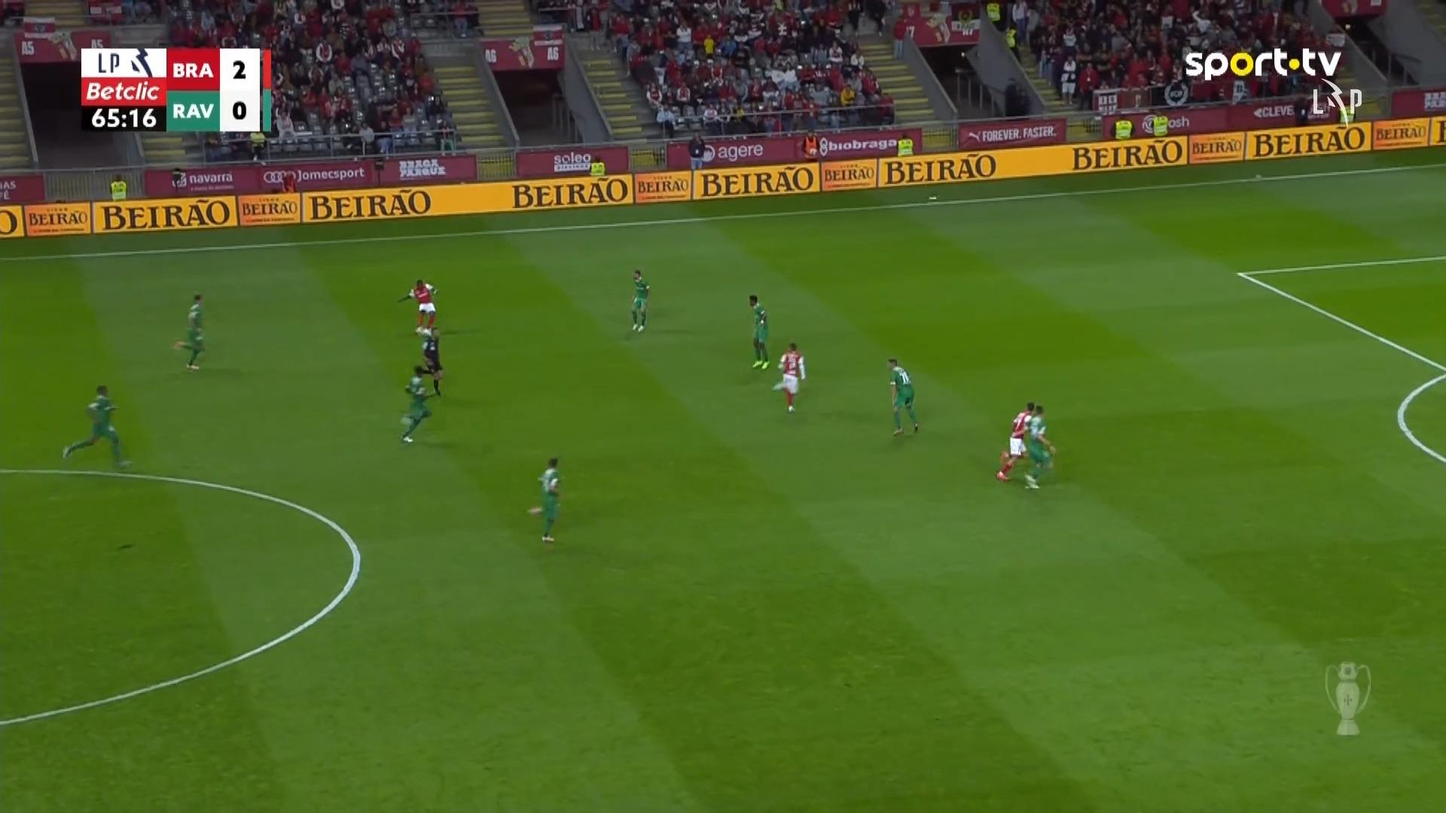ball: (429, 327, 440, 339)
player: (61, 384, 133, 470), (996, 400, 1035, 480), (527, 456, 562, 542), (1023, 403, 1056, 489), (886, 357, 920, 436), (398, 364, 432, 443), (173, 293, 206, 370), (772, 341, 806, 413), (398, 277, 438, 335), (747, 294, 770, 370), (629, 268, 649, 332)
referee: (420, 325, 444, 396)
